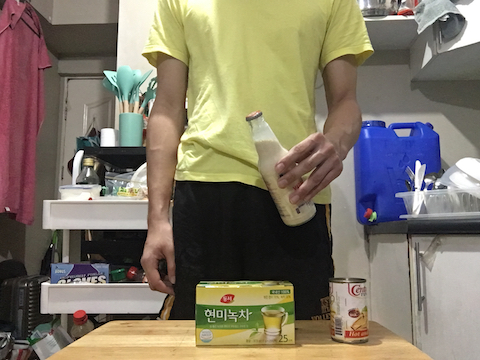bottle: (242, 109, 320, 228)
box: (190, 277, 300, 354)
can: (329, 274, 371, 345)
grab: (270, 129, 347, 209)
